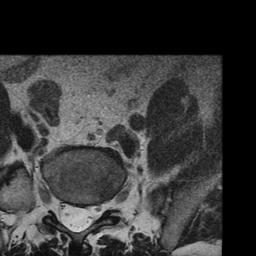CCS_normal: (71, 196, 84, 238)
LFS_normal: (98, 190, 111, 225)
LLS_normal: (84, 196, 98, 234)
RFS_normal: (48, 178, 58, 227)
RLS_normal: (58, 192, 71, 233)
